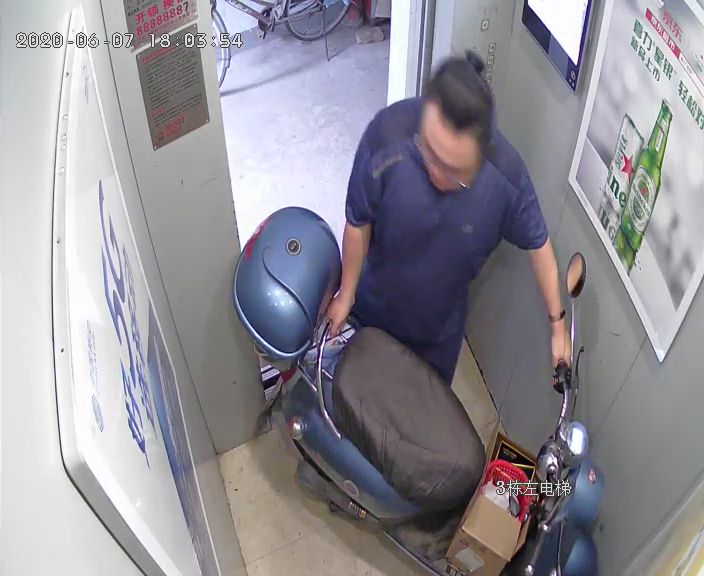Electric-bicycle: (233, 205, 601, 573)
